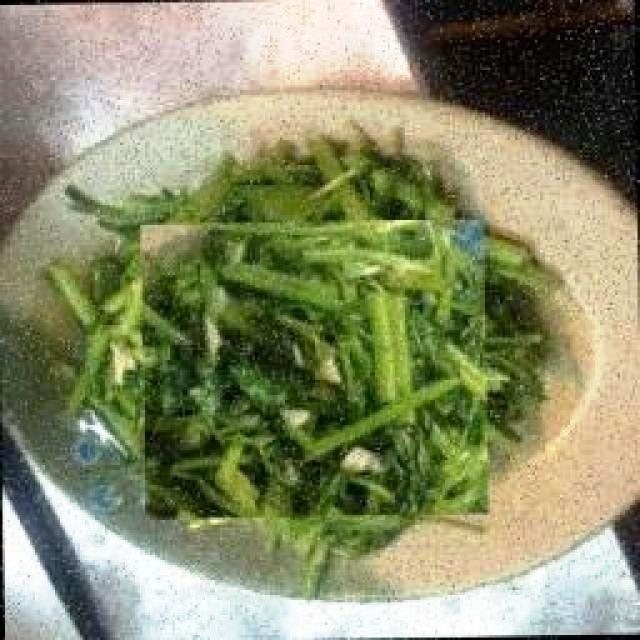water_spinach: (65, 129, 558, 586)
